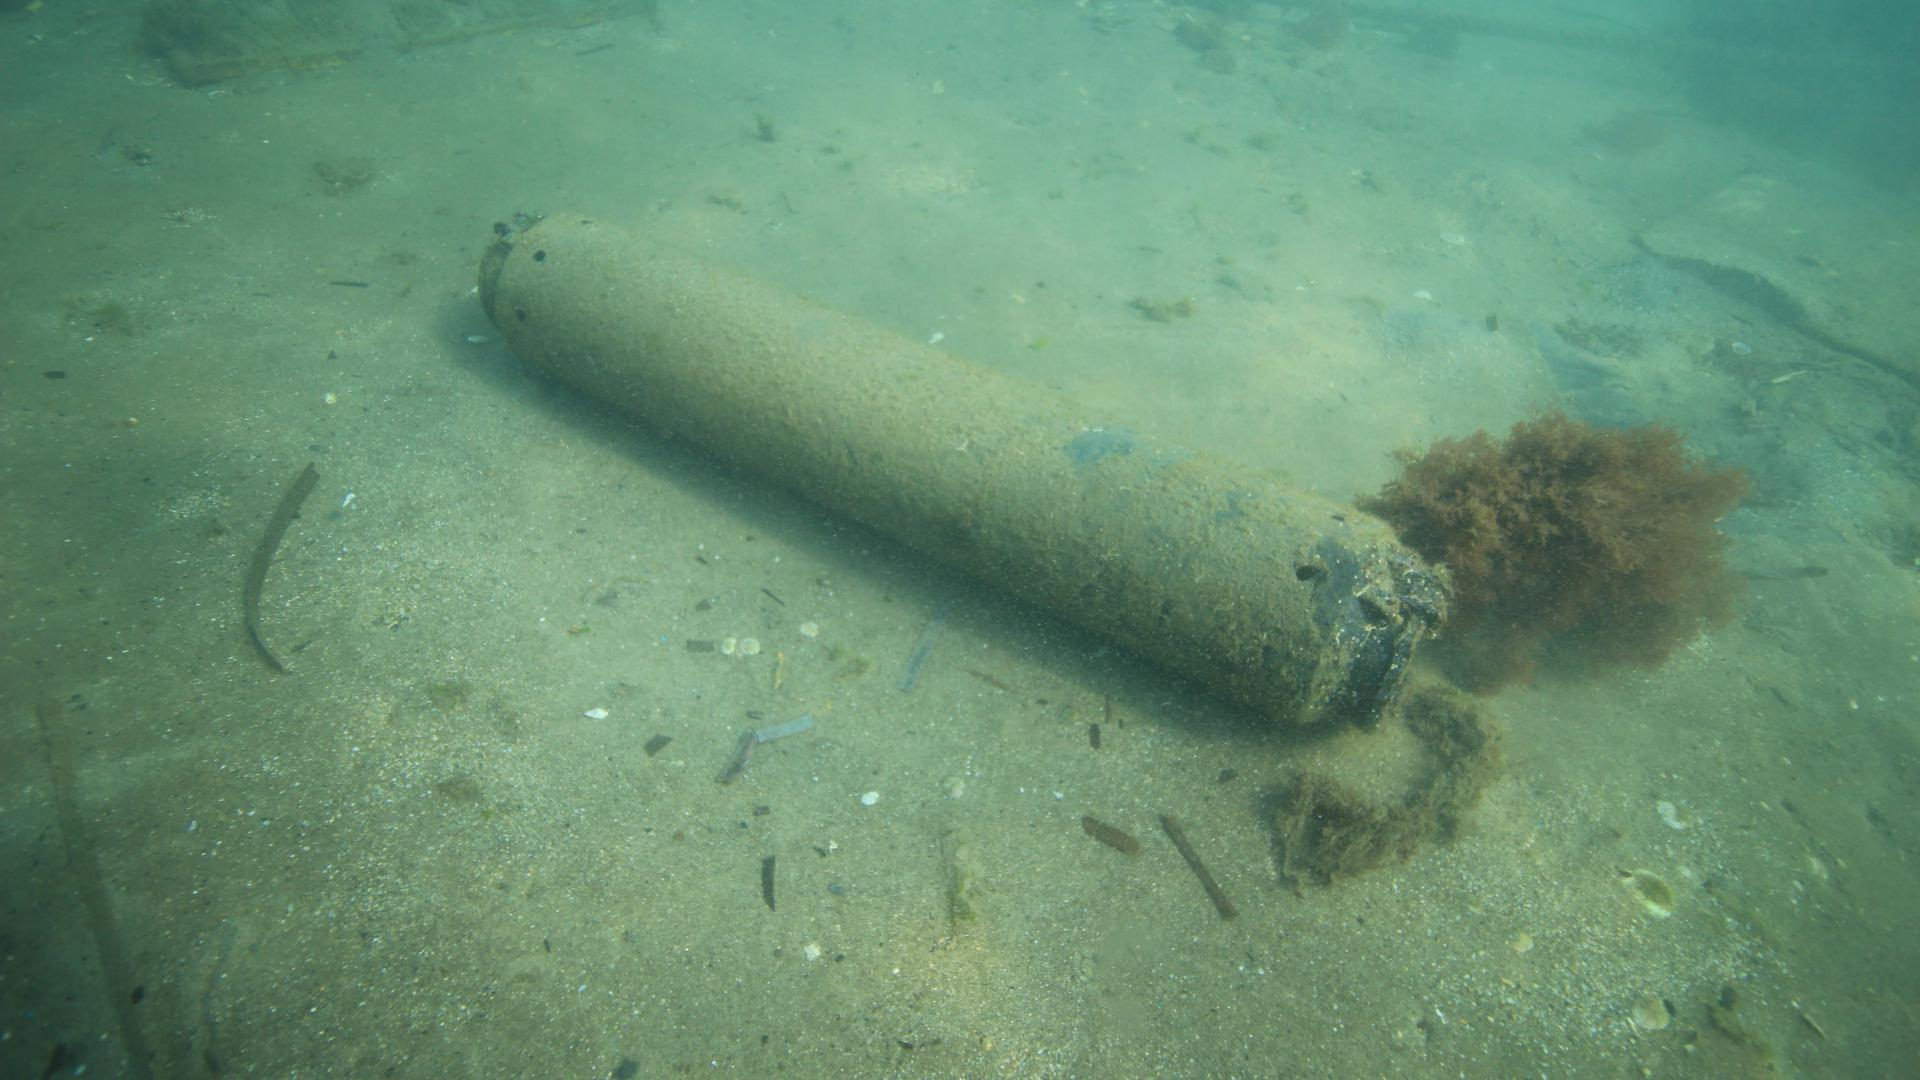eel fish trap: (477, 199, 1451, 736)
